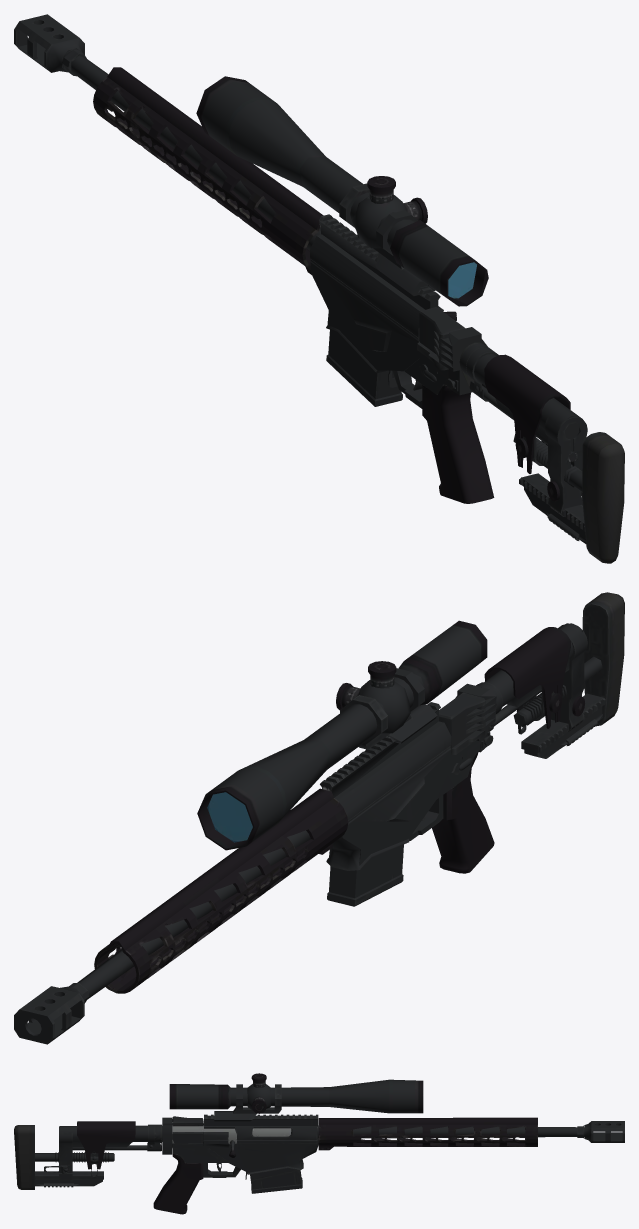
3 views of the same model, one above another, from view 1: azimuth 30°, elevation 25°; view 2: azimuth 150°, elevation 25°; view 3: azimuth 270°, elevation 25° (orthographic). The views are drawn at different scales.
Visible parts, largest first — view 1: LPAimMain_LowPoly_06, LPCooler_LowPoly_05, LPBody_LowPoly_07, LPHandle_LowPoly_05, LPButtRubber_LowPoly_05, LPRuggerButt_LowPoly_06, LPmuzzlebrake_LowPoly_05, LPButtMiddle_LowPoly_05, LPmagazine_LowPoly_06, LPbarrel_LowPoly_08, LPAimConnector_LowPoly_05, PicatinnyRail_LowPoly_06LP (+4 smaller); view 2: LPAimMain_LowPoly_06, LPCooler_LowPoly_05, LPBody_LowPoly_07, LPButtRubber_LowPoly_05, LPHandle_LowPoly_05, LPRuggerButt_LowPoly_06, LPmuzzlebrake_LowPoly_05, LPbarrel_LowPoly_08, LPmagazine_LowPoly_06, LPAimConnector_LowPoly_05, PicatinnyRail_LowPoly_06LP, LPconnectorBody_LowPoly_05 (+6 smaller); view 3: LPAimMain_LowPoly_06, LPCooler_LowPoly_05, LPBody_LowPoly_07, LPHandle_LowPoly_05, LPRuggerButt_LowPoly_06, LPbarrel_LowPoly_08, LPButtRubber_LowPoly_05, LPmagazine_LowPoly_06, PicatinnyRail_LowPoly_06LP, LPAimConnector_LowPoly_05, LPmuzzlebrake_LowPoly_05, LPGate_LowPoly_08 (+7 smaller).
Part boxes in pixels (left/top/right/bottom): LPAimMain_LowPoly_06: left=196, top=76, right=488, bottom=306; LPCooler_LowPoly_05: left=93, top=67, right=323, bottom=274; LPBody_LowPoly_07: left=310, top=234, right=448, bottom=408; LPHandle_LowPoly_05: left=422, top=384, right=494, bottom=503; LPButtRubber_LowPoly_05: left=582, top=432, right=624, bottom=563; LPRuggerButt_LowPoly_06: left=484, top=354, right=570, bottom=473; LPmuzzlebrake_LowPoly_05: left=14, top=14, right=84, bottom=72; LPButtMiddle_LowPoly_05: left=544, top=416, right=587, bottom=516; LPmagazine_LowPoly_06: left=326, top=330, right=402, bottom=406; LPbarrel_LowPoly_08: left=71, top=56, right=321, bottom=250; LPAimConnector_LowPoly_05: left=339, top=183, right=435, bottom=295; PicatinnyRail_LowPoly_06LP: left=319, top=214, right=440, bottom=309; LPAimMain_LowPoly_06: left=197, top=620, right=487, bottom=850; LPCooler_LowPoly_05: left=94, top=788, right=348, bottom=993; LPBody_LowPoly_07: left=326, top=721, right=480, bottom=870; LPButtRubber_LowPoly_05: left=582, top=592, right=624, bottom=726; LPHandle_LowPoly_05: left=432, top=752, right=494, bottom=873; LPRuggerButt_LowPoly_06: left=484, top=627, right=570, bottom=728; LPmuzzlebrake_LowPoly_05: left=14, top=986, right=84, bottom=1044; LPbarrel_LowPoly_08: left=70, top=830, right=310, bottom=1009; LPmagazine_LowPoly_06: left=327, top=844, right=403, bottom=906; LPAimConnector_LowPoly_05: left=340, top=668, right=437, bottom=749; PicatinnyRail_LowPoly_06LP: left=320, top=702, right=440, bottom=797; LPconnectorBody_LowPoly_05: left=439, top=692, right=485, bottom=754; LPAimMain_LowPoly_06: left=169, top=1079, right=423, bottom=1113; LPCooler_LowPoly_05: left=318, top=1117, right=537, bottom=1150; LPBody_LowPoly_07: left=172, top=1123, right=318, bottom=1177; LPHandle_LowPoly_05: left=153, top=1153, right=203, bottom=1214; LPRuggerButt_LowPoly_06: left=77, top=1121, right=135, bottom=1169; LPbarrel_LowPoly_08: left=317, top=1125, right=584, bottom=1138; LPButtRubber_LowPoly_05: left=14, top=1125, right=34, bottom=1189; LPmagazine_LowPoly_06: left=250, top=1168, right=302, bottom=1193; PicatinnyRail_LowPoly_06LP: left=204, top=1114, right=318, bottom=1126; LPAimConnector_LowPoly_05: left=214, top=1084, right=281, bottom=1121; LPmuzzlebrake_LowPoly_05: left=584, top=1121, right=624, bottom=1142; LPGate_LowPoly_08: left=172, top=1125, right=291, bottom=1157.
Size of the model in its own units: 2.52 by 7.9 by 32.47.
Materials: 1 (1 with a texture image).
